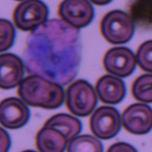E: (22, 20, 82, 84)
